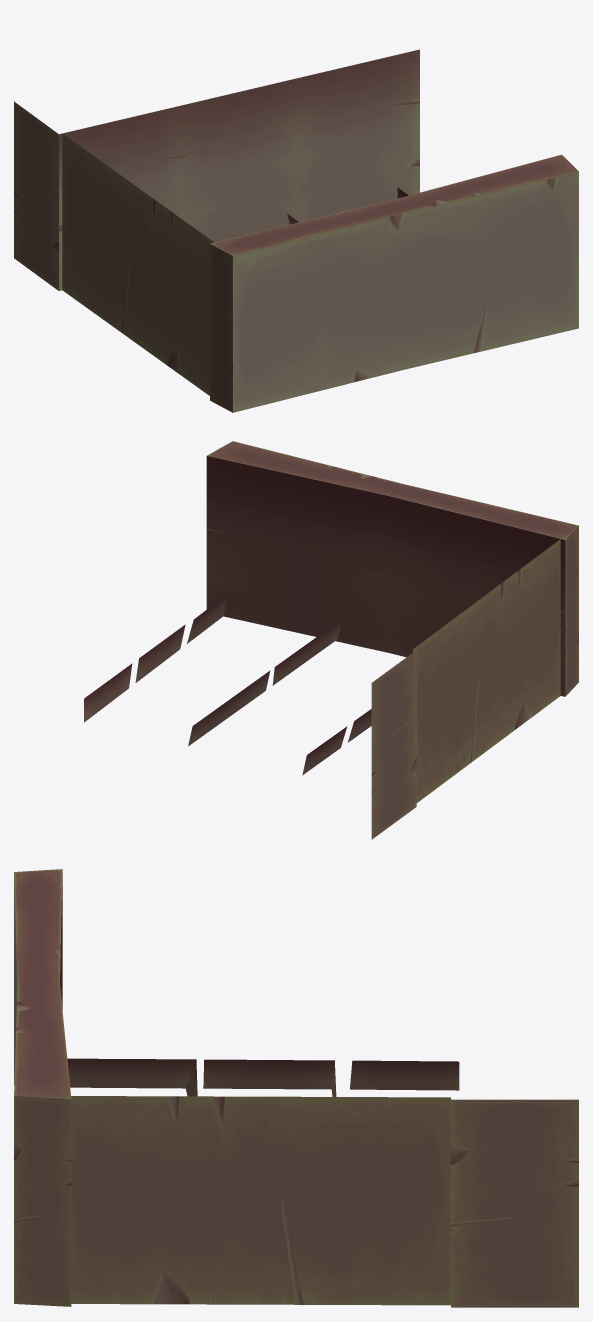
The model's file is bookcase_02_full.glb.
The picture shows the model from 3 angles, top to bottom: view 1: azimuth 30°, elevation 25°; view 2: azimuth 150°, elevation 25°; view 3: azimuth 270°, elevation 25°; orthographic projection. The views are drawn at different scales.
Visible parts, largest first — view 1: manor.bookcase_02_full-Mesh[1], manor.bookcase_02_full-Mesh[0]; view 2: manor.bookcase_02_full-Mesh[0], manor.bookcase_02_full-Mesh[1]; view 3: manor.bookcase_02_full-Mesh[1], manor.bookcase_02_full-Mesh[0].
Part boxes in pixels (left/top/right/bottom): manor.bookcase_02_full-Mesh[1]: left=14, top=101, right=578, bottom=412; manor.bookcase_02_full-Mesh[0]: left=59, top=49, right=419, bottom=290; manor.bookcase_02_full-Mesh[0]: left=84, top=456, right=565, bottom=775; manor.bookcase_02_full-Mesh[1]: left=207, top=441, right=578, bottom=839; manor.bookcase_02_full-Mesh[1]: left=14, top=869, right=578, bottom=1307; manor.bookcase_02_full-Mesh[0]: left=60, top=871, right=459, bottom=1096.
Size of the model in its own units: 3.1 by 1.3 by 3.2.
Materials: 3 (3 with a texture image).
